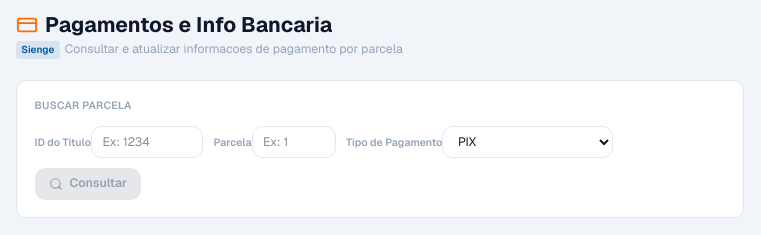
it: PagamentosPage › enables search button when billId and installmentId are provided
Type "100" into the number field with placeholder "Ex: 1234" at (147, 142), box [91,126,203,158]
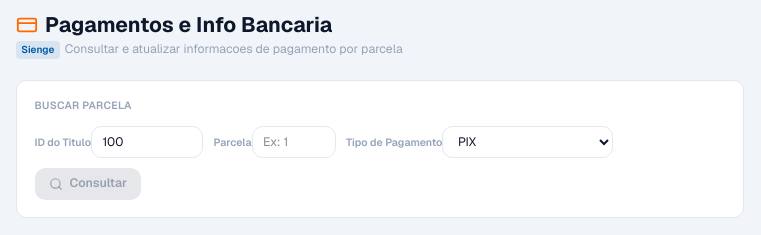
Type "1" into the number field with placeholder "Ex: 1" at (294, 142), box [252,126,336,158]
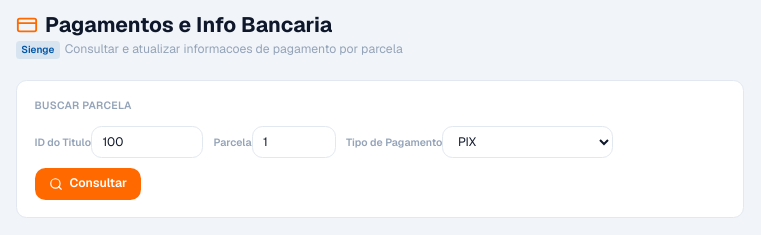
Expected: the button "Consultar" is enabled, [34,168,141,200]
